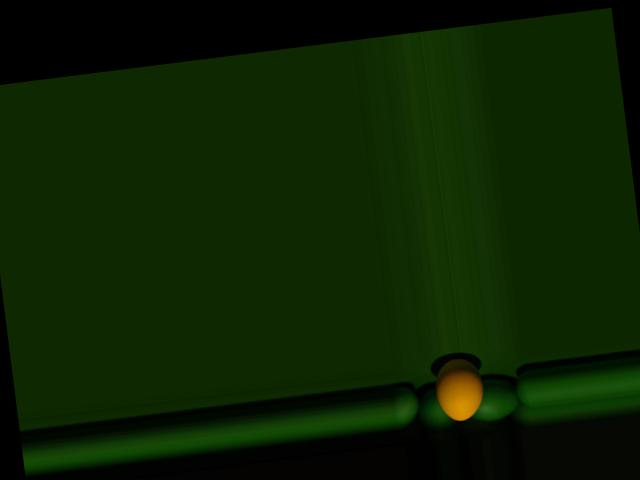egg: (432, 355, 487, 422)
